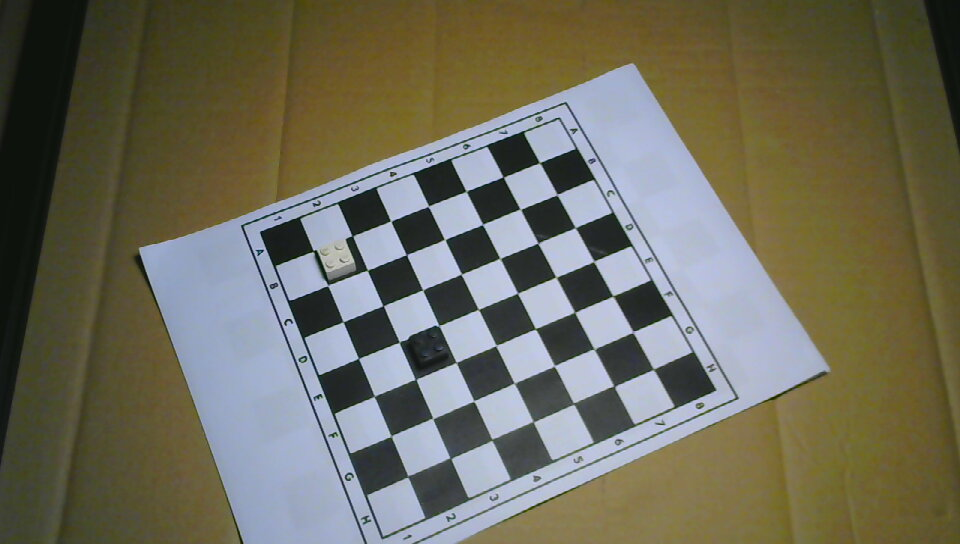bp: (410, 327, 450, 370)
wp: (317, 239, 356, 280)
